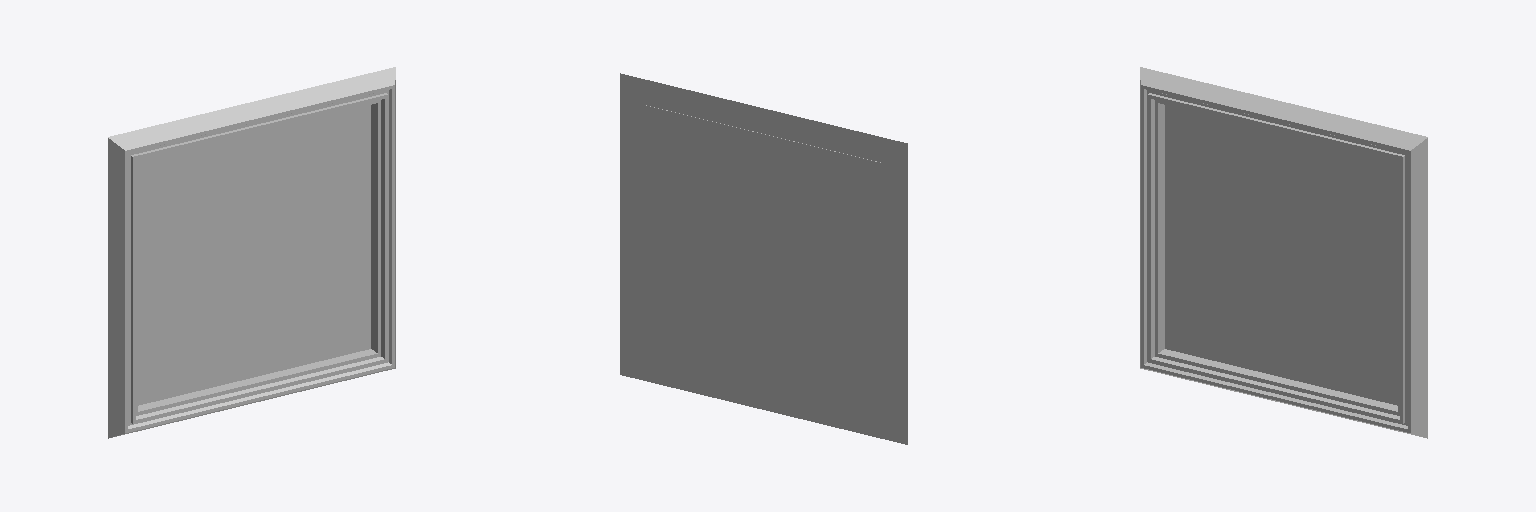
File: painting_frame.obj
3 renders of one model, left to right at view 1: azimuth 30°, elevation 25°; view 2: azimuth 150°, elevation 25°; view 3: azimuth 330°, elevation 25°, orthographic.
Visible parts, largest first — view 1: Cube; view 2: Cube; view 3: Cube.
Part boxes in pixels (left/top/right/bottom): Cube: left=108, top=67, right=395, bottom=438; Cube: left=620, top=73, right=907, bottom=444; Cube: left=1140, top=67, right=1427, bottom=438.
Size of the model in its own units: 3.65 by 3.65 by 0.202.